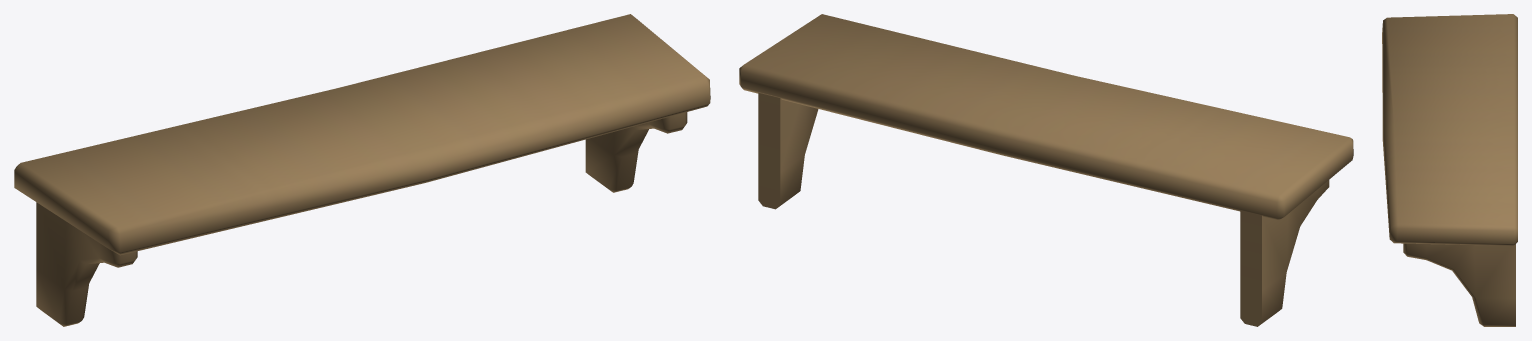
File: shelf_01.glb
3 renders of one model, left to right at view 1: azimuth 30°, elevation 25°; view 2: azimuth 150°, elevation 25°; view 3: azimuth 270°, elevation 25°, orthographic. The views are drawn at different scales.
Parts seen in each view (by area): view 1: shelf.01; view 2: shelf.01; view 3: shelf.01.
Boxes of the visible parts, x1,y1,x2,y2 form: shelf.01: (14,14,710,326); shelf.01: (739,14,1353,326); shelf.01: (1382,14,1517,326).
Size of the model in its own units: 1.72 by 0.4083 by 0.4581.
Materials: 1 (1 with a texture image).
